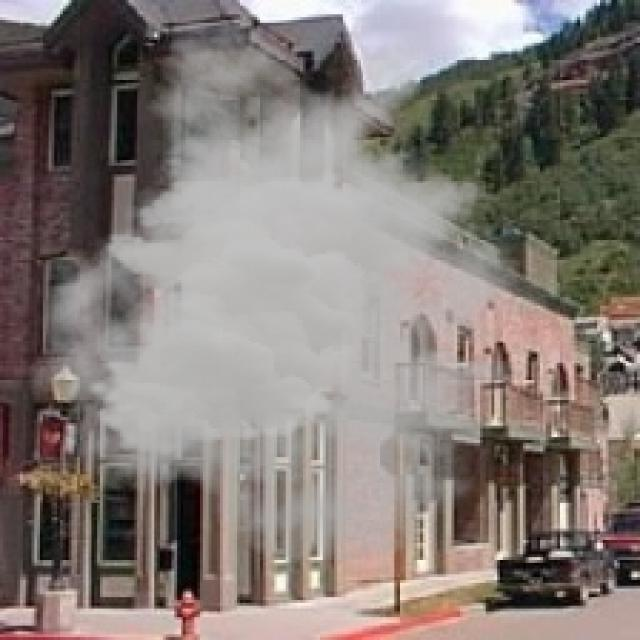smoke: (26, 17, 577, 566)
